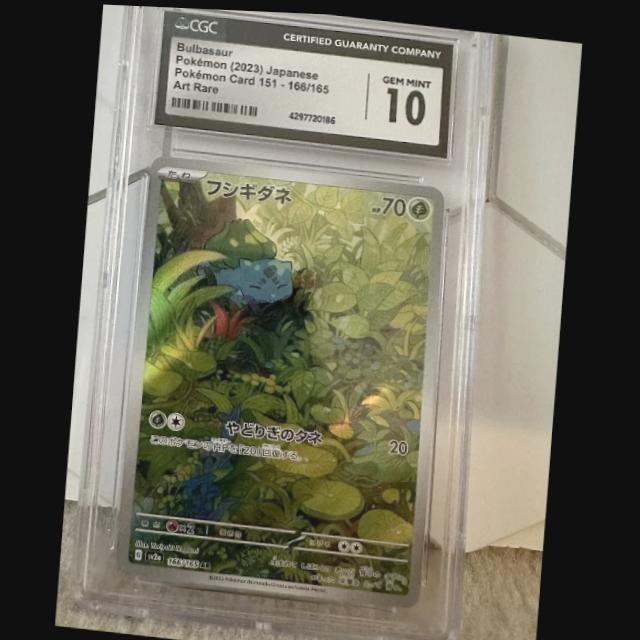card: (113, 150, 445, 606)
cgc_label: (151, 6, 454, 155)
cgc_slab: (66, 4, 494, 640)
